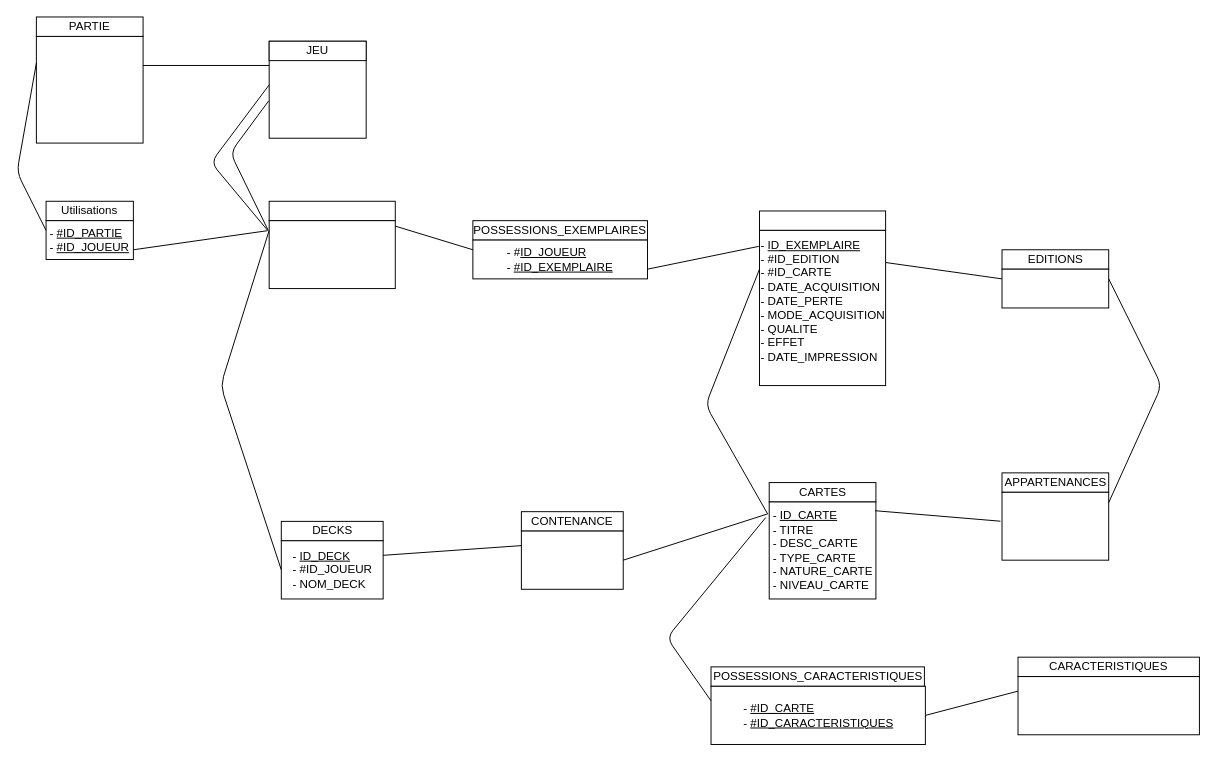
This 1216x761 diagram has some shape labels left out. The shapes that lost their labels are listed below. From the top down, each one's box as (x1, y1, x2, y2) in pixels, then its label:
(35, 35, 143, 143): - ID_PARTIE - LIEU - DATE - TYPE_TOURNOI
(268, 40, 366, 138): - #ID_PARTIE - # ID_JOUEUR1 - # ID_JOUEUR2 - ID_VICTOIRE
(268, 200, 395, 221): JOUEURS
(759, 210, 886, 230): EXEMPLAIRES
(268, 220, 395, 289): - ID_JOUEUR - NOM_JOUEUR - PRENOM_JOUEUR - PSEUDONYME
(1001, 268, 1109, 308): - ID_EDITION - NOM_EDITION
(1001, 491, 1109, 560): - # ID_EDITION - #ID_CARTE - NB_TIRAGE - COTE
(520, 530, 623, 589): - #ID_DECK - #ID_CARTE - NB_CARTES
(1017, 676, 1199, 735): - ID_CARACTERISTIQUES - DESC_CARACTERISTIQUES - VALEURS
